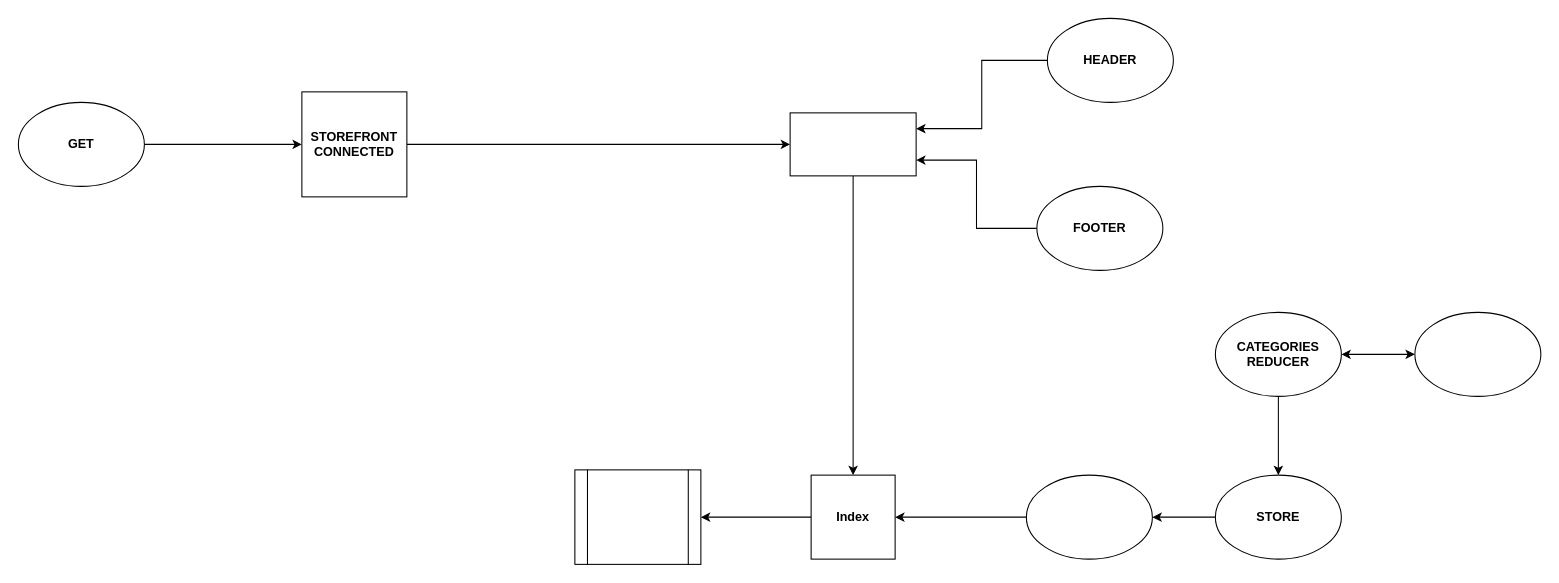
This 1559x583 diagram has some shape labels left out. Here are the shapes that lost their labels. From the top down, the box of each, then its label:
(789, 112, 916, 176): APP
(1414, 311, 1541, 396): PRODUCTS COMPONENET
(574, 469, 701, 564): Front-End
(1025, 474, 1152, 559): PROVIDER
